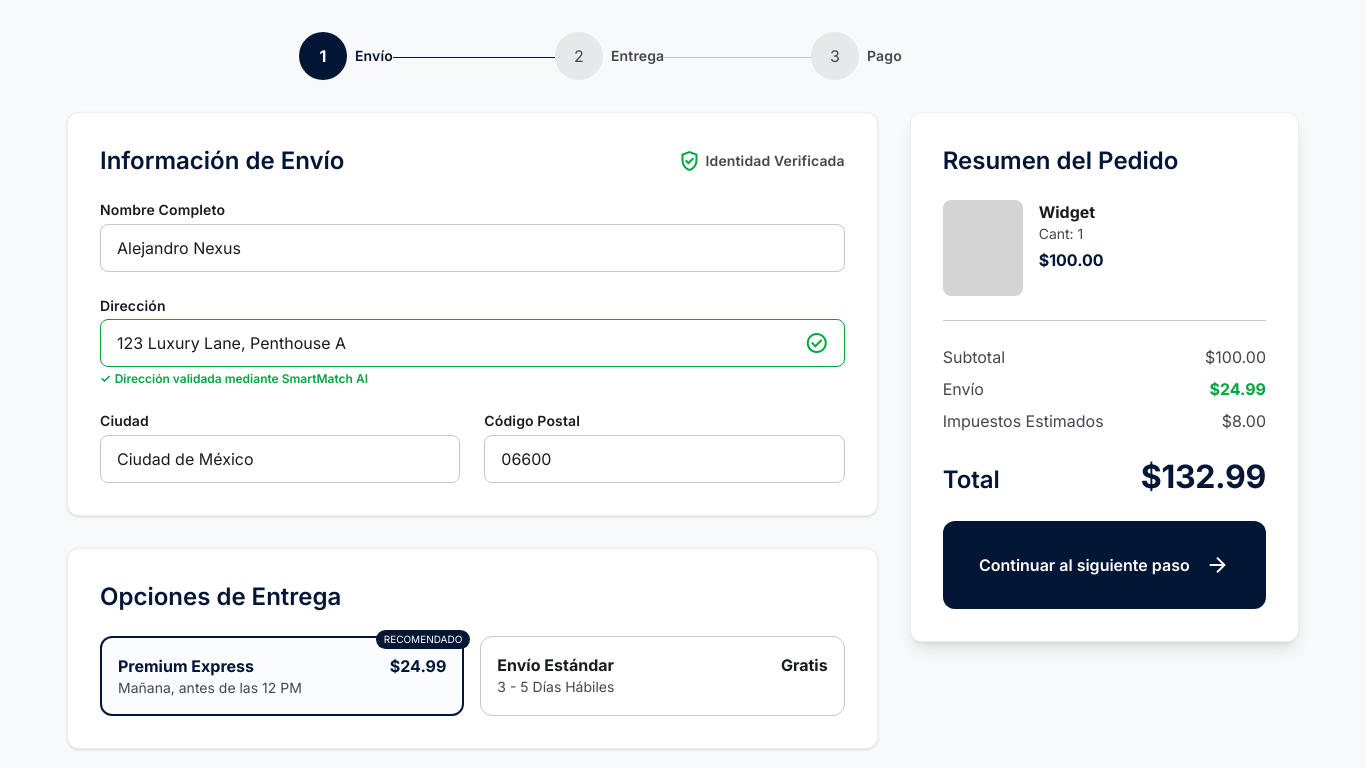
Test: CheckoutPage › cancels confirmation dialog
This screenshot has width=1366, height=768.
Click the button "Continuar al siguiente paso": (1104, 565) [943, 521, 1266, 609]
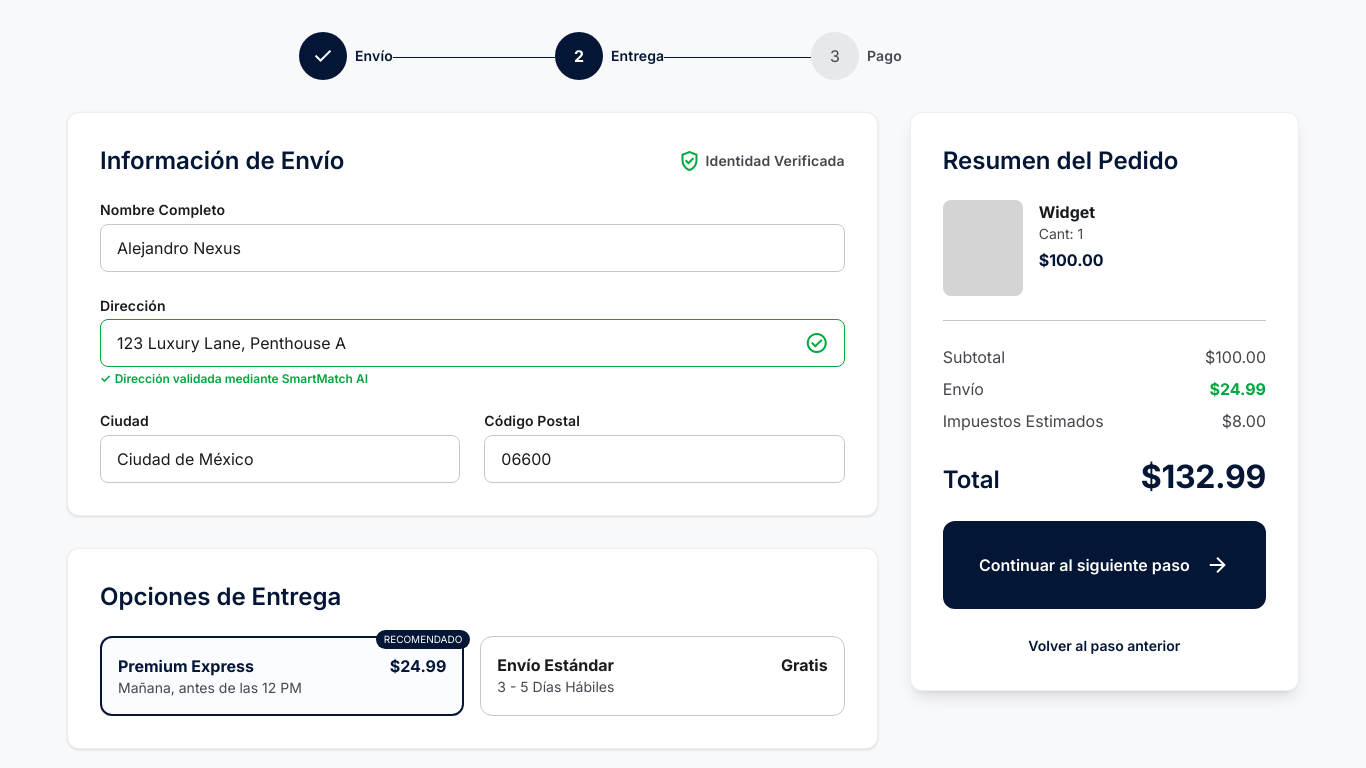
Click the button "Continuar al siguiente paso": (1104, 565) [943, 521, 1266, 609]
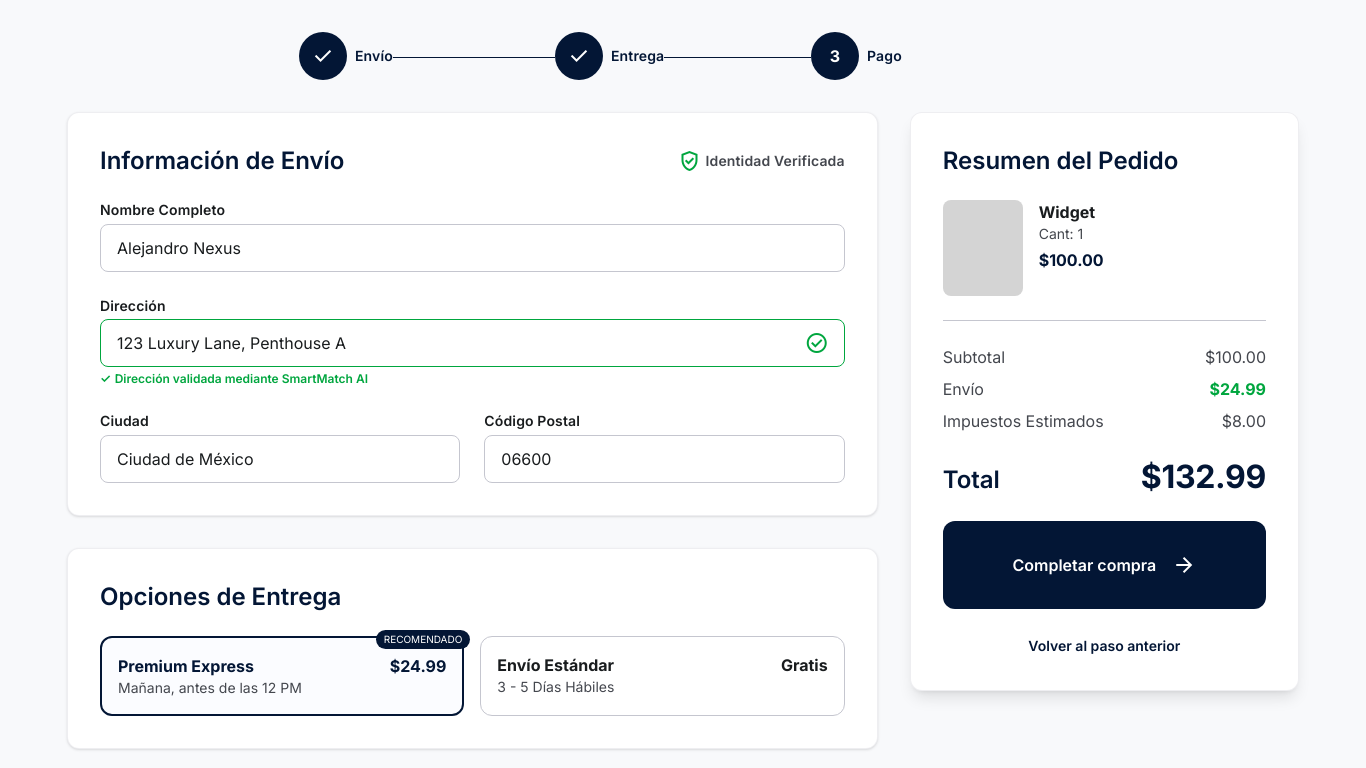
Click the button "Completar compra": (1104, 565) [943, 521, 1266, 609]
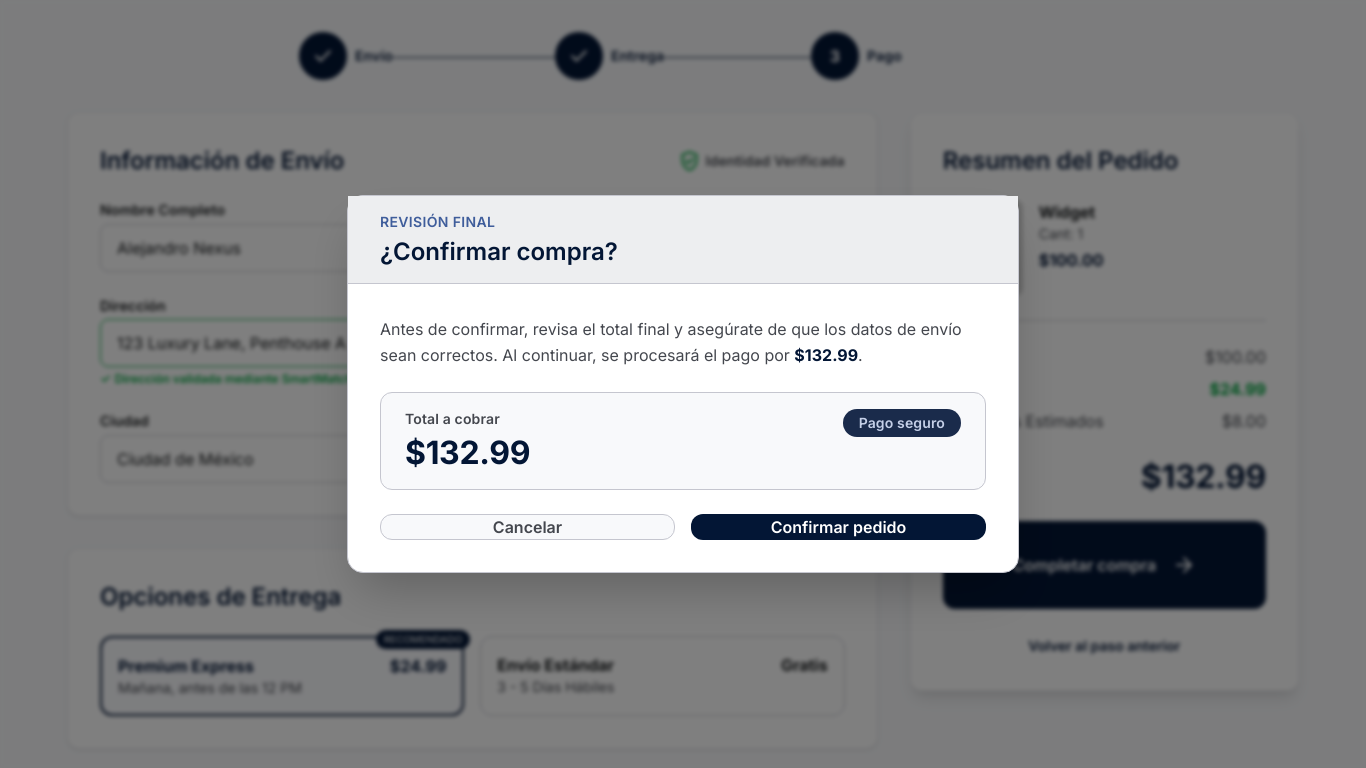
Click the button "Cancelar": (528, 527) [380, 514, 675, 540]
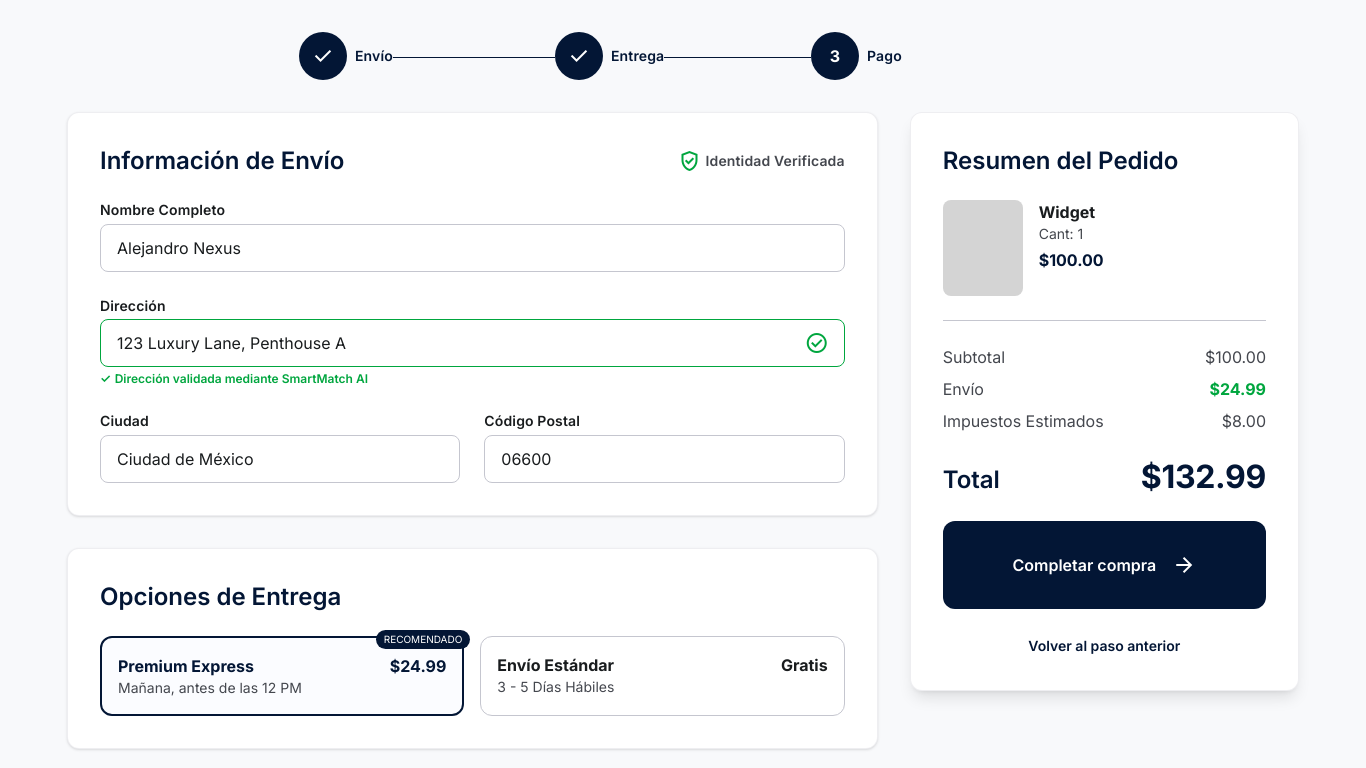
Check: the heading "¿Confirmar compra?" is gone
